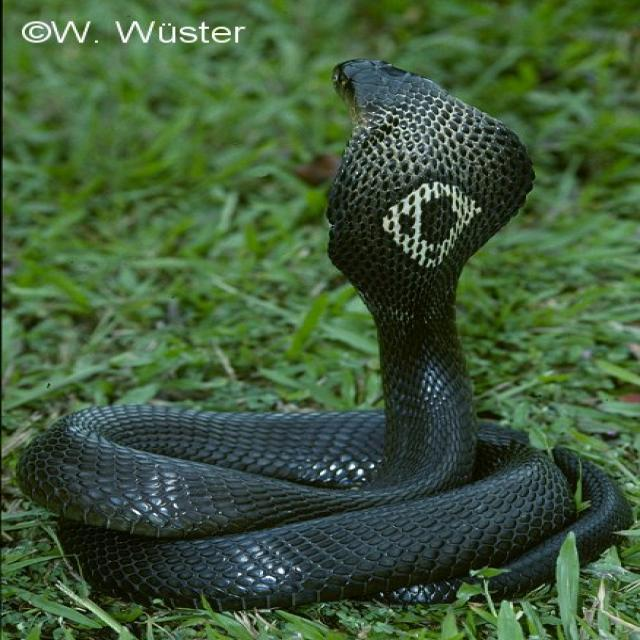Snake: (15, 56, 632, 612)
